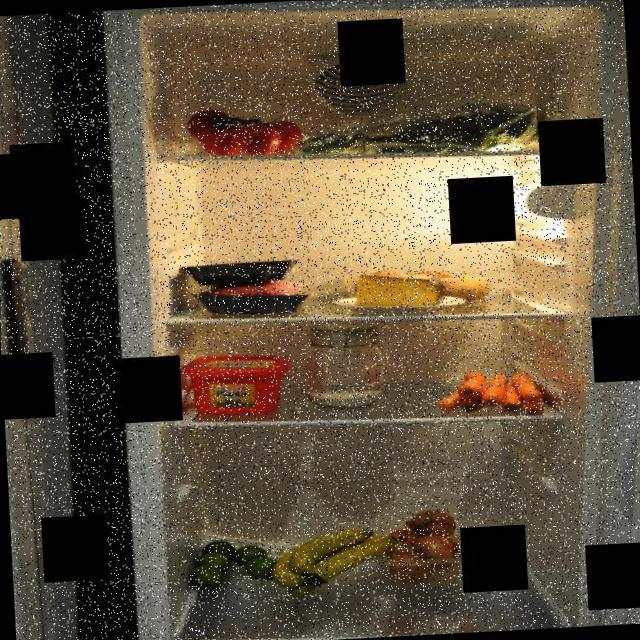Cebolla: (371, 505, 468, 592)
Mantequilla: (179, 348, 294, 421)
Patata: (419, 266, 498, 308)
Plátano: (268, 522, 402, 604)
Queso: (348, 267, 450, 315)
Tomate: (180, 100, 309, 163)
Zanahoria: (434, 362, 554, 422)
